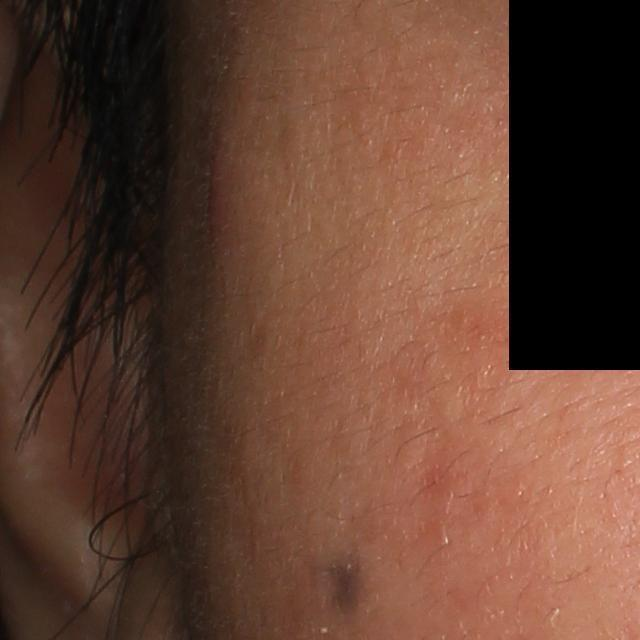other: (315, 546, 372, 631)
